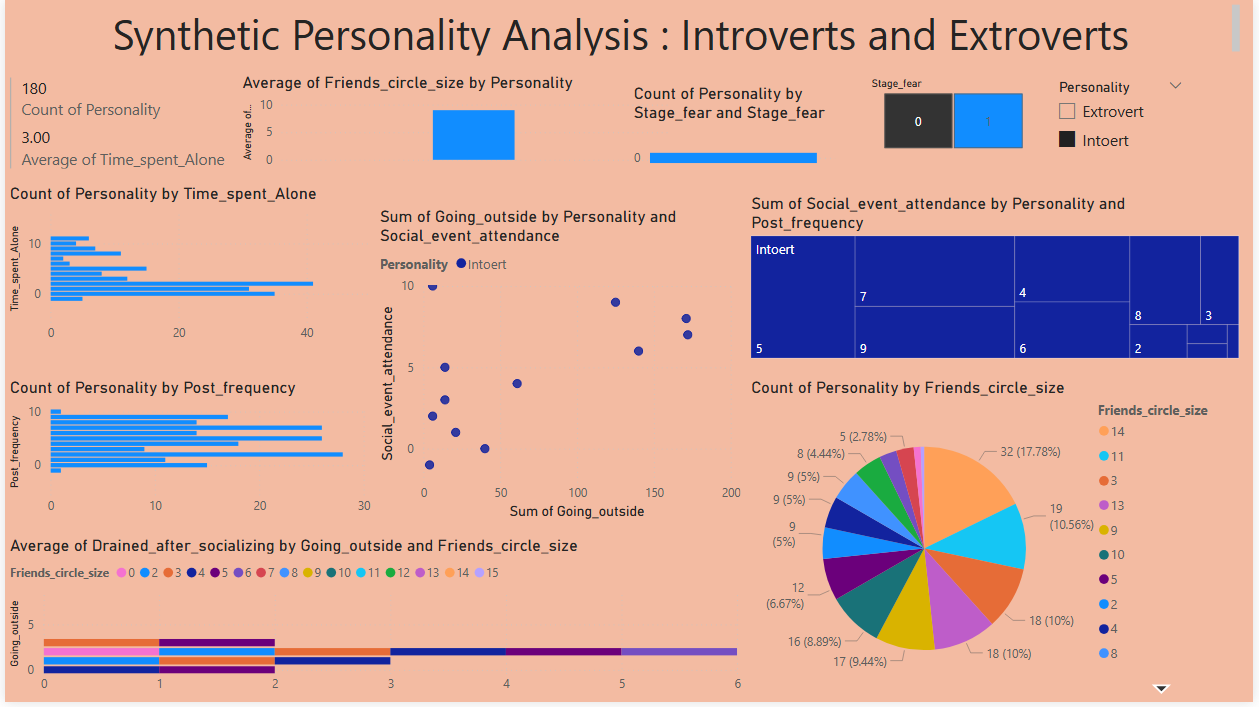

The dashboard page shown, as its layout file describes it:
{"tool":"powerbi","page":{"name":"Page 1","canvas":[1280,720],"ordinal":0},"visuals":[{"type":"barChart","fields":{"Category":["Extrovert vs  Introvert Persona.Going_outside"],"Series":["Extrovert vs  Introvert Persona.Friends_circle_size"],"Y":["Avg(Extrovert vs  Introvert Persona.Drained_after_socializing)"]},"box":[0,548.9,760.1,171.3],"z":0},{"type":"clusteredBarChart","fields":{"Category":["Extrovert vs  Introvert Persona.Time_spent_Alone"],"Y":["CountNonNull(Extrovert vs  Introvert Persona.Personality)"]},"box":[0,188.2,387.3,171.3],"z":1000},{"type":"pieChart","fields":{"Category":["Extrovert vs  Introvert Persona.Friends_circle_size"],"Y":["CountNonNull(Extrovert vs  Introvert Persona.Personality)"]},"box":[760.1,387.3,493.4,331.8],"z":2000},{"type":"treemap","fields":{"Details":["Extrovert vs  Introvert Persona.Post_frequency"],"Values":["Sum(Extrovert vs  Introvert Persona.Social_event_attendance)"],"Group":["Extrovert vs  Introvert Persona.Personality"]},"box":[760.1,199.1,510.3,173.7],"z":3000},{"type":"clusteredBarChart","fields":{"Category":["Extrovert vs  Introvert Persona.Post_frequency"],"Y":["CountNonNull(Extrovert vs  Introvert Persona.Personality)"]},"box":[0,387.3,380,149.6],"z":4000},{"type":"clusteredColumnChart","fields":{"Y":["Avg(Extrovert vs  Introvert Persona.Friends_circle_size)"],"Category":["Extrovert vs  Introvert Persona.Personality"]},"box":[238.9,74.8,448.8,103.8],"z":5000},{"type":"barChart","fields":{"Y":["CountNonNull(Extrovert vs  Introvert Persona.Personality)"],"Category":["Extrovert vs  Introvert Persona.Stage_fear"],"Series":["Extrovert vs  Introvert Persona.Stage_fear"]},"box":[639.4,85.7,217.2,106.2],"z":6000},{"type":"scatterChart","fields":{"X":["Sum(Extrovert vs  Introvert Persona.Going_outside)"],"Y":["Extrovert vs  Introvert Persona.Social_event_attendance"],"Series":["Extrovert vs  Introvert Persona.Personality"]},"box":[380,211.1,380,325.7],"z":7000},{"type":"multiRowCard","fields":{"Values":["CountNonNull(Extrovert vs  Introvert Persona.Personality)","Avg(Extrovert vs  Introvert Persona.Time_spent_Alone)"]},"box":[0,74.8,238.9,113.4],"z":8000},{"type":"slicer","fields":{"Values":["Extrovert vs  Introvert Persona.Personality"]},"box":[1067.6,75,151.5,88],"z":9000},{"type":"slicer","fields":{"Values":["Extrovert vs  Introvert Persona.Stage_fear"]},"box":[875.9,74.8,191.8,84.5],"z":10000},{"type":"textbox","box":[0,0,1271.1,62],"z":11000}]}

Visuals, with their boxes in screenshot pixels (x1, y1, x2, y2), scaled from the page's 1280x720 canvas onto the 1259x707 screenshot:
barChart - Extrovert vs  Introvert Persona.Going_outside x Extrovert vs  Introvert Persona.Friends_circle_size: 0:539:748:706
clusteredBarChart - Extrovert vs  Introvert Persona.Time_spent_Alone x CountNonNull(Extrovert vs  Introvert Persona.Personality): 0:185:381:353
pieChart - Extrovert vs  Introvert Persona.Friends_circle_size x CountNonNull(Extrovert vs  Introvert Persona.Personality): 748:380:1233:706
treemap - Extrovert vs  Introvert Persona.Post_frequency x Sum(Extrovert vs  Introvert Persona.Social_event_attendance): 748:196:1250:366
clusteredBarChart - Extrovert vs  Introvert Persona.Post_frequency x CountNonNull(Extrovert vs  Introvert Persona.Personality): 0:380:374:527
clusteredColumnChart - Avg(Extrovert vs  Introvert Persona.Friends_circle_size) x Extrovert vs  Introvert Persona.Personality: 235:73:676:175
barChart - CountNonNull(Extrovert vs  Introvert Persona.Personality) x Extrovert vs  Introvert Persona.Stage_fear: 629:84:843:188
scatterChart - Sum(Extrovert vs  Introvert Persona.Going_outside) x Extrovert vs  Introvert Persona.Social_event_attendance: 374:207:748:527
multiRowCard - CountNonNull(Extrovert vs  Introvert Persona.Personality) x Avg(Extrovert vs  Introvert Persona.Time_spent_Alone): 0:73:235:185
slicer - Extrovert vs  Introvert Persona.Personality: 1050:74:1199:160
slicer - Extrovert vs  Introvert Persona.Stage_fear: 862:73:1050:156
textbox: 0:0:1250:61
